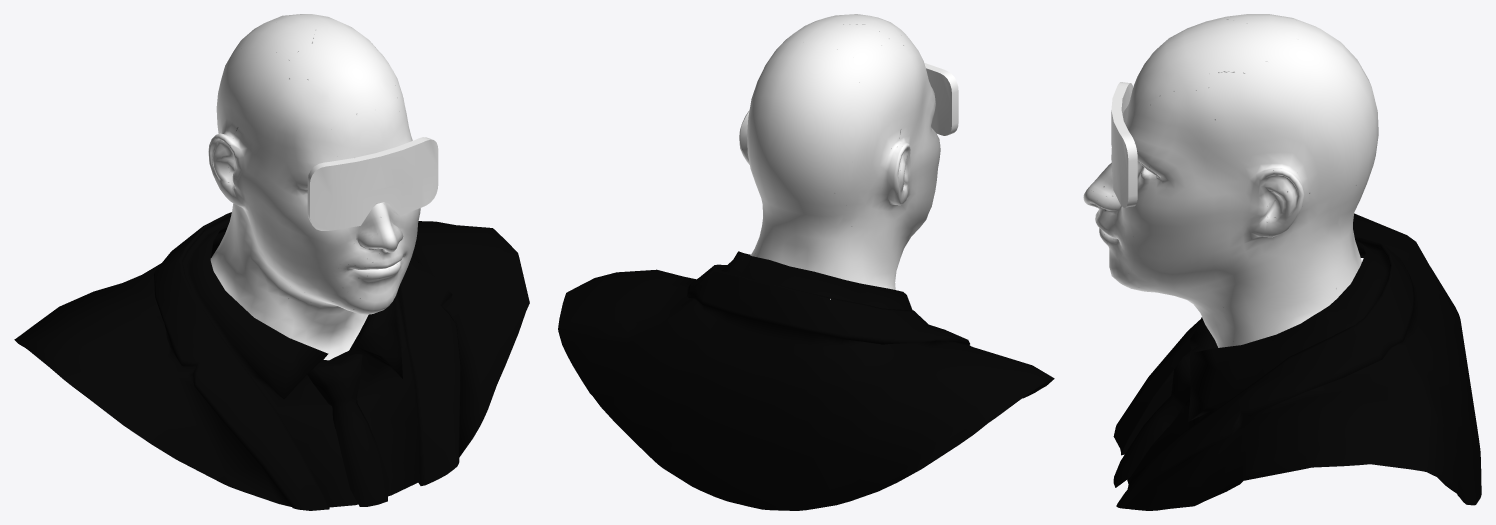
Rendered from OldManMask.fbx.
The picture shows the model from 3 angles, left to right: view 1: azimuth 30°, elevation 25°; view 2: azimuth 150°, elevation 25°; view 3: azimuth 270°, elevation 25°; orthographic projection. The views are drawn at different scales.
Parts seen in each view (by area): view 1: Tops; view 2: Tops; view 3: Tops.
Part boxes in pixels (box(x1,y1,x2,y2)): Tops: box(14, 14, 529, 510); Tops: box(558, 14, 1054, 510); Tops: box(1083, 14, 1481, 510).
Size of the model in its own units: 4936 by 4261 by 3332.
1 material, 1 textured.
